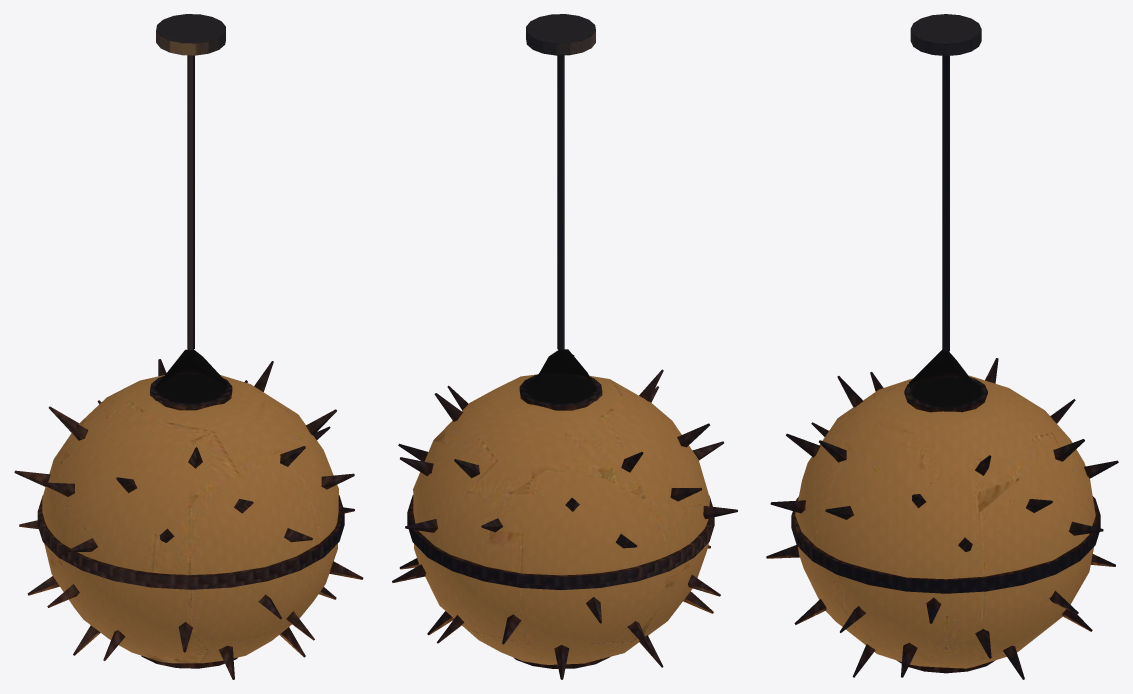
Rendered from owlcove_lantern_lod1.glb.
The picture shows the model from 3 angles, left to right: view 1: azimuth 30°, elevation 25°; view 2: azimuth 150°, elevation 25°; view 3: azimuth 270°, elevation 25°; orthographic projection.
Visible parts, largest first — view 1: owlcove_lantern; view 2: owlcove_lantern; view 3: owlcove_lantern.
Boxes of the visible parts, x1,y1,x2,y2 form: owlcove_lantern: (14,14,363,679); owlcove_lantern: (392,14,737,679); owlcove_lantern: (766,14,1118,679).
Size of the model in its own units: 0.4023 by 0.771 by 0.3966.
2 materials, 1 textured.
